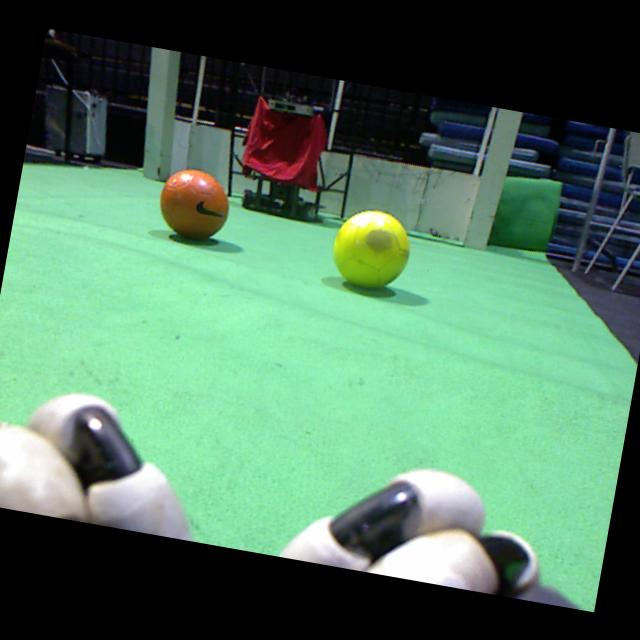ball: (333, 210, 409, 287), (160, 169, 228, 239)
goal: (463, 108, 521, 251), (142, 47, 168, 180)
